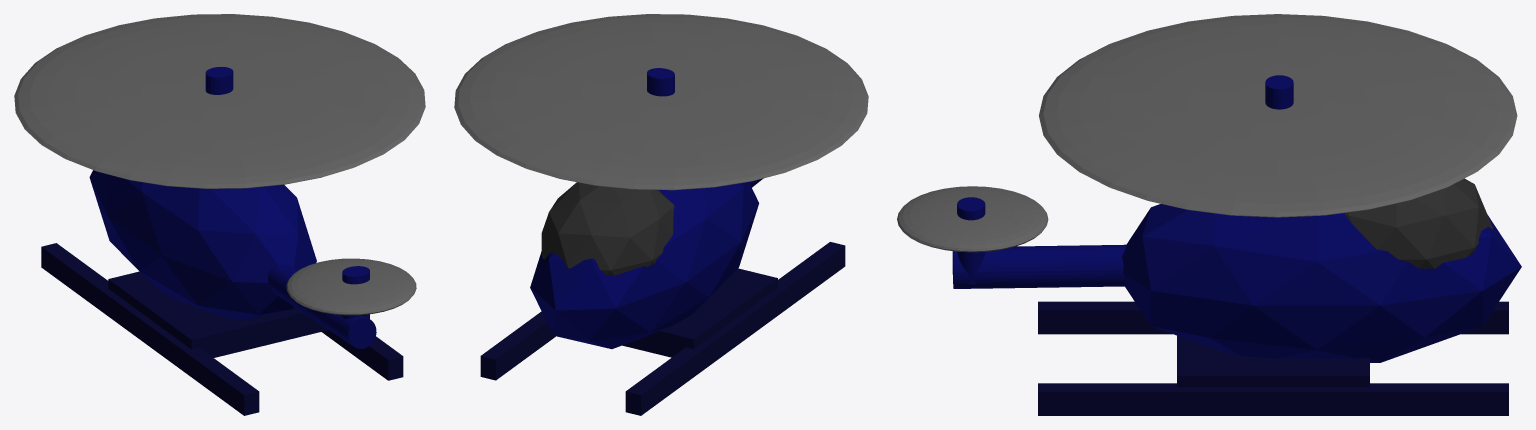
The model's file is helicopter.fbx.
The picture shows the model from 3 angles, left to right: view 1: azimuth 30°, elevation 25°; view 2: azimuth 150°, elevation 25°; view 3: azimuth 270°, elevation 25°; orthographic projection. The views are drawn at different scales.
Parts seen in each view (by area): view 1: Sphere, Icosphere, Cube.001, Cube, Sphere.001, Cylinder.001, Cube.002, Cylinder, Cylinder.002; view 2: Sphere, Icosphere, Icosphere.001, Cube, Cube.001, Cube.002, Cylinder; view 3: Sphere, Icosphere, Cube.002, Icosphere.001, Sphere.001, Cube.001, Cylinder.001, Cube, Cylinder.002, Cylinder.
Part boxes in pixels (<box>): Sphere: <box>14,14,425,188</box>; Icosphere: <box>89,170,316,320</box>; Cube.001: <box>108,271,328,357</box>; Cube: <box>41,243,259,415</box>; Sphere.001: <box>286,258,416,315</box>; Cylinder.001: <box>268,264,376,348</box>; Cube.002: <box>322,329,403,380</box>; Cylinder: <box>205,66,233,94</box>; Cylinder.002: <box>342,266,369,318</box>; Sphere: <box>454,14,868,190</box>; Icosphere: <box>530,182,759,349</box>; Icosphere.001: <box>541,182,674,275</box>; Cube: <box>625,242,845,415</box>; Cube.001: <box>622,268,777,357</box>; Cube.002: <box>480,311,555,380</box>; Cylinder: <box>647,68,674,96</box>; Sphere: <box>1039,14,1517,217</box>; Icosphere: <box>1121,204,1521,362</box>; Cube.002: <box>1038,383,1508,415</box>; Icosphere.001: <box>1345,178,1493,268</box>; Sphere.001: <box>897,186,1048,252</box>; Cube.001: <box>1177,335,1369,387</box>; Cylinder.001: <box>952,244,1126,288</box>; Cube: <box>1038,301,1508,334</box>; Cylinder.002: <box>957,197,985,284</box>; Cylinder: <box>1265,75,1293,109</box>.
Size of the model in its own units: 496 by 329 by 647.
